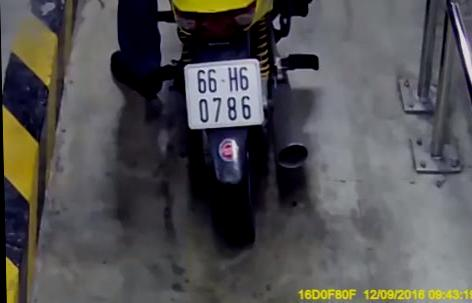License_Plate: (176, 55, 273, 129)
